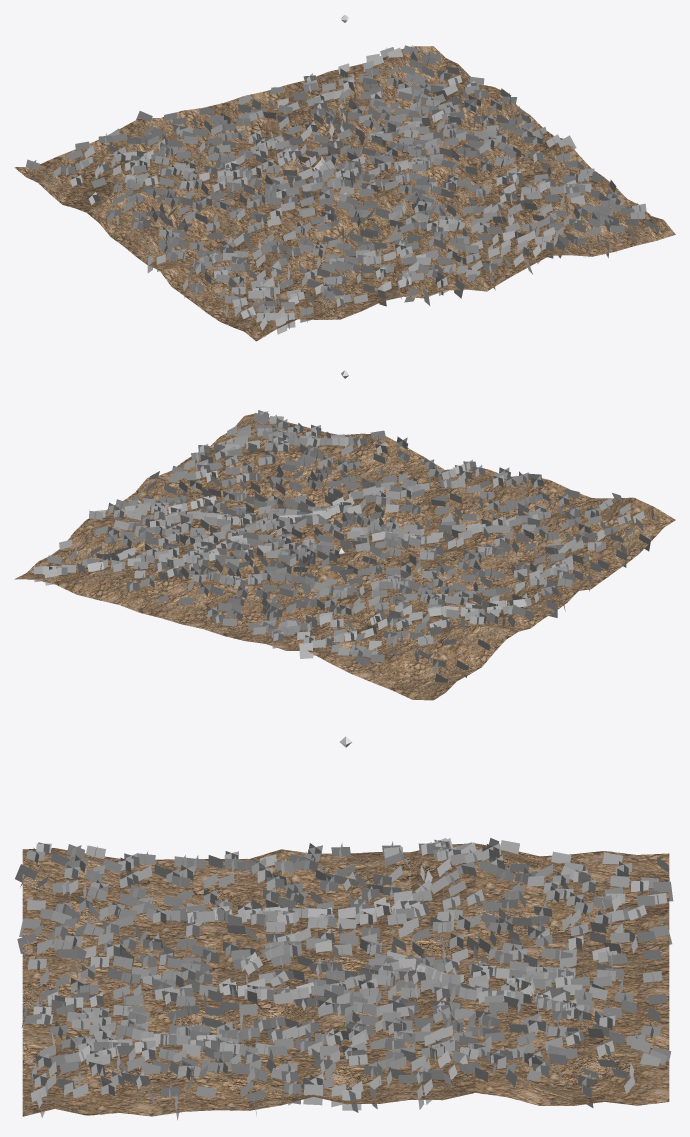
Rendered from field.gltf.
3 renders of one model, top to bottom at view 1: azimuth 30°, elevation 25°; view 2: azimuth 150°, elevation 25°; view 3: azimuth 270°, elevation 25°, orthographic. The views are drawn at different scales.
Parts seen in each view (by area): view 1: Plane001; view 2: Plane001; view 3: Plane001.
Part boxes in pixels (bbox=[...]): Plane001: bbox=[14, 46, 675, 341]; Plane001: bbox=[14, 413, 675, 700]; Plane001: bbox=[22, 843, 669, 1116].
Bounding box in the file's own units: 50.97 × 23.75 × 51.17.
